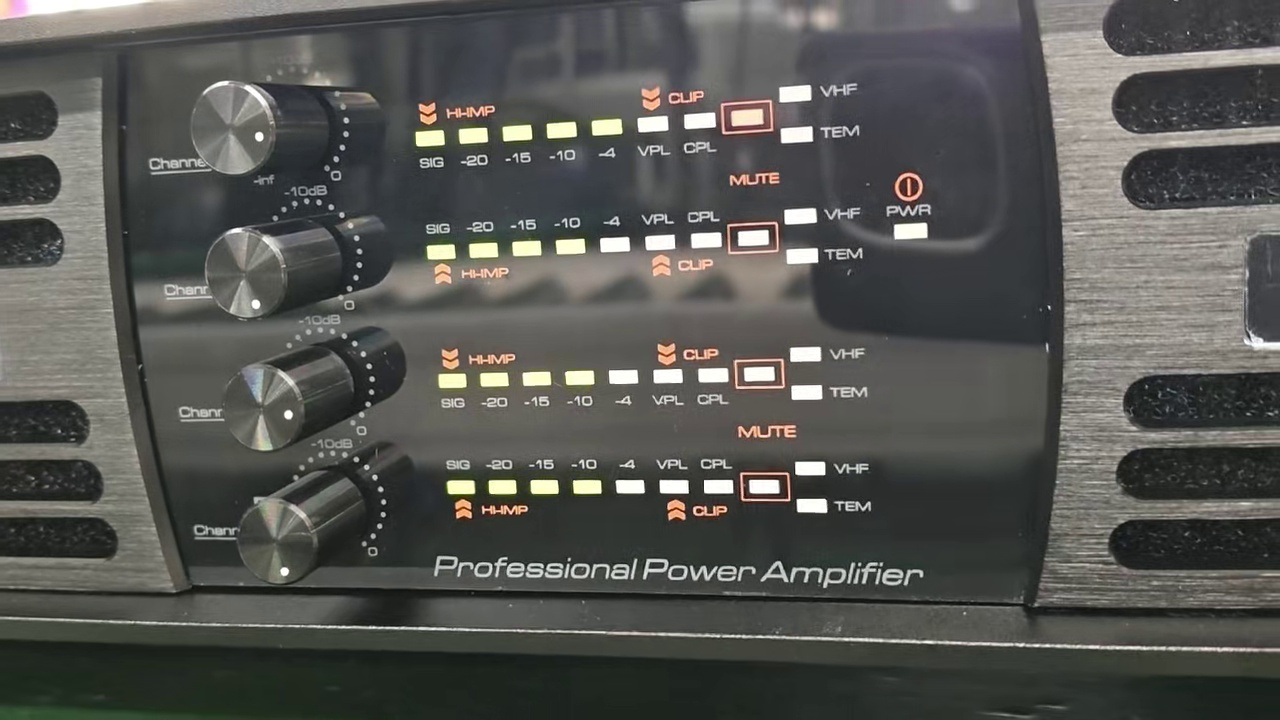FP_CPL: (677, 106, 723, 164), (686, 202, 726, 257), (699, 452, 735, 498), (695, 365, 732, 409)
FP_PWR: (882, 200, 935, 243)
FP_PWR_area: (879, 166, 939, 250)
FP_SIG_area: (413, 80, 874, 173), (420, 202, 867, 289), (443, 449, 874, 526), (436, 337, 873, 408)
FP_VPL: (635, 112, 674, 167), (639, 204, 680, 256), (654, 451, 693, 499), (651, 366, 685, 409)
